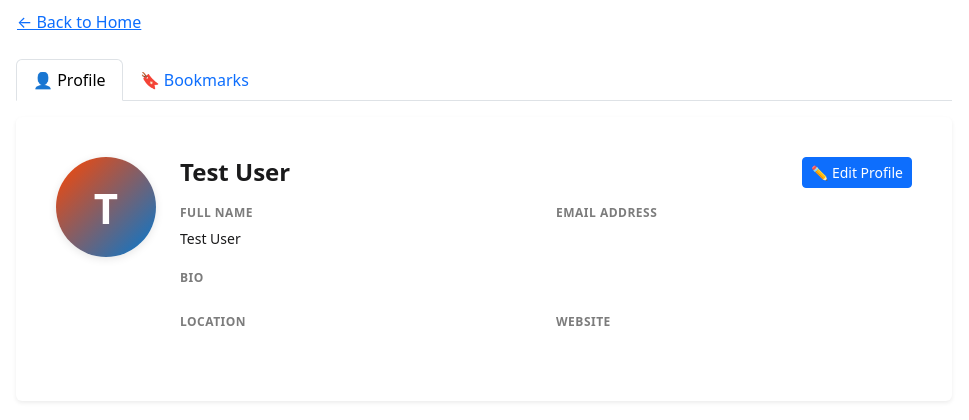
Profile › shows the empty state on the Bookmarks tab when nothing is saved
The image size is (969, 420).
Click the button "🔖 Bookmarks" at [194, 80], box left=140, top=69, right=249, bottom=91
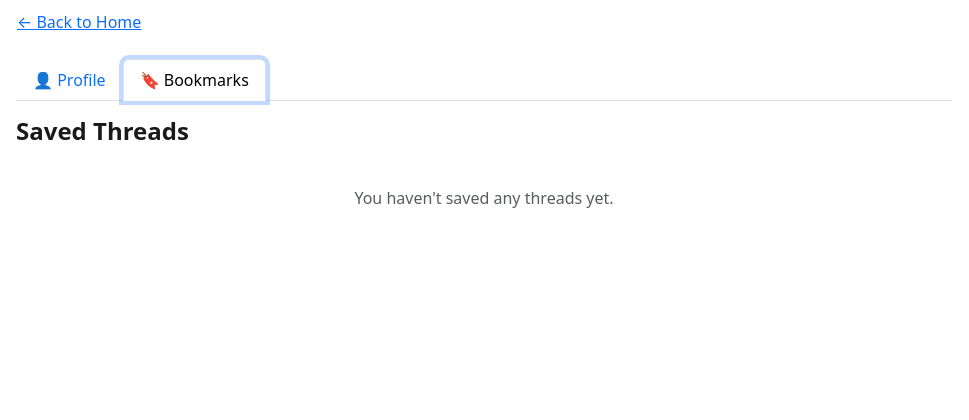
Check: the text "You haven't saved any threads yet." is shown, box left=354, top=187, right=614, bottom=209
